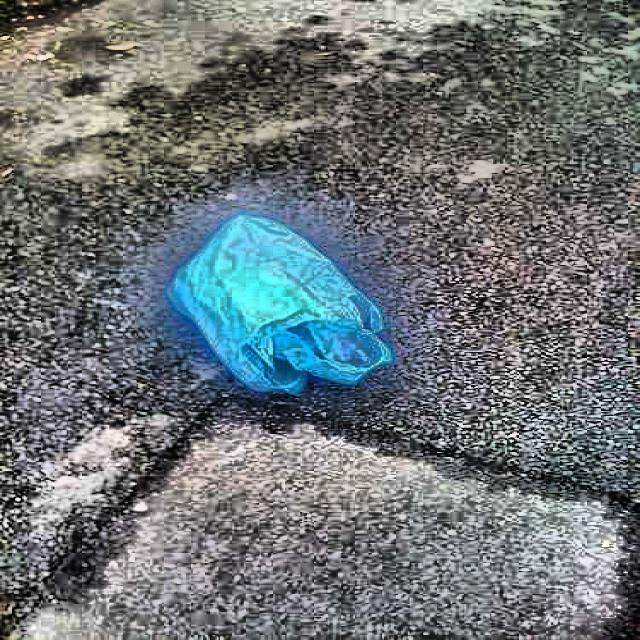Plastic: (118, 198, 430, 399)
